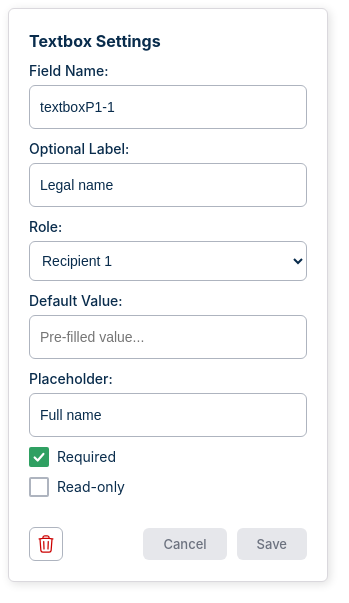
Test: TemplateFieldProperties › disables deletion once the form is dirty
Expected: the heading "Textbox Settings" is shown, [29, 31, 161, 51]
Expected: the button named "Delete field" is enabled, [29, 527, 63, 561]
Type "!" into the field labelled "Optional Label:" at (168, 185), box [29, 163, 307, 207]
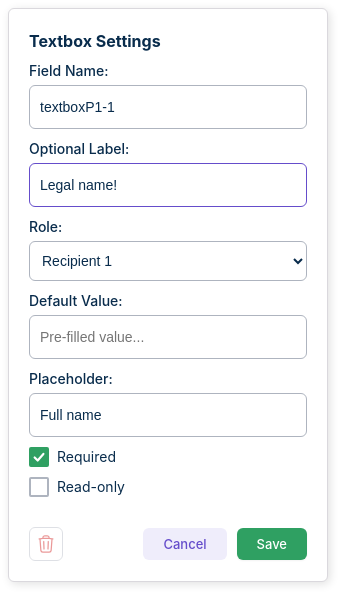
Result: the button named "Delete field" is disabled at [29, 527, 63, 561]
